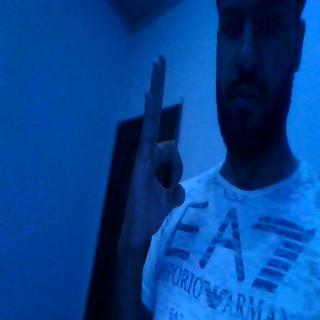Space: (108, 50, 190, 258)
